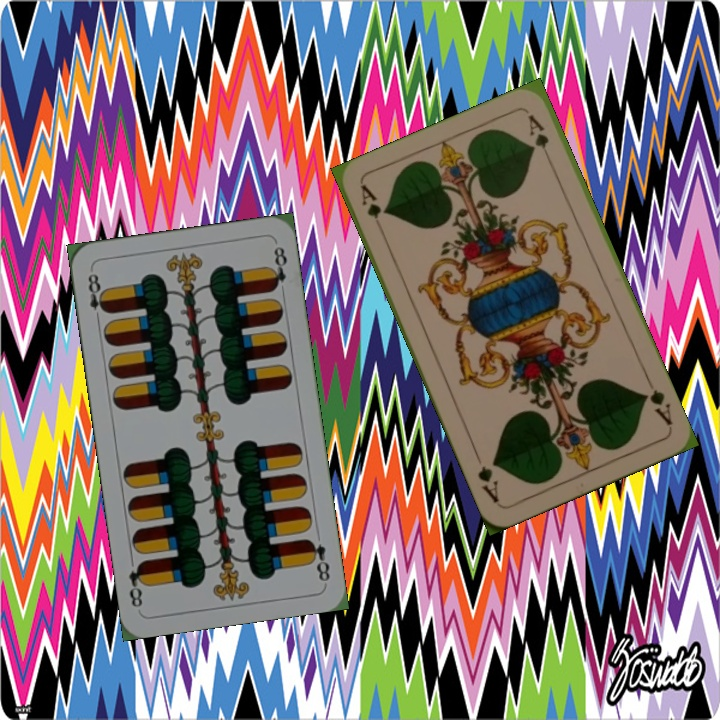E8: (83, 269, 110, 325), (303, 534, 332, 584)
GA: (639, 374, 675, 429), (356, 181, 388, 237)
